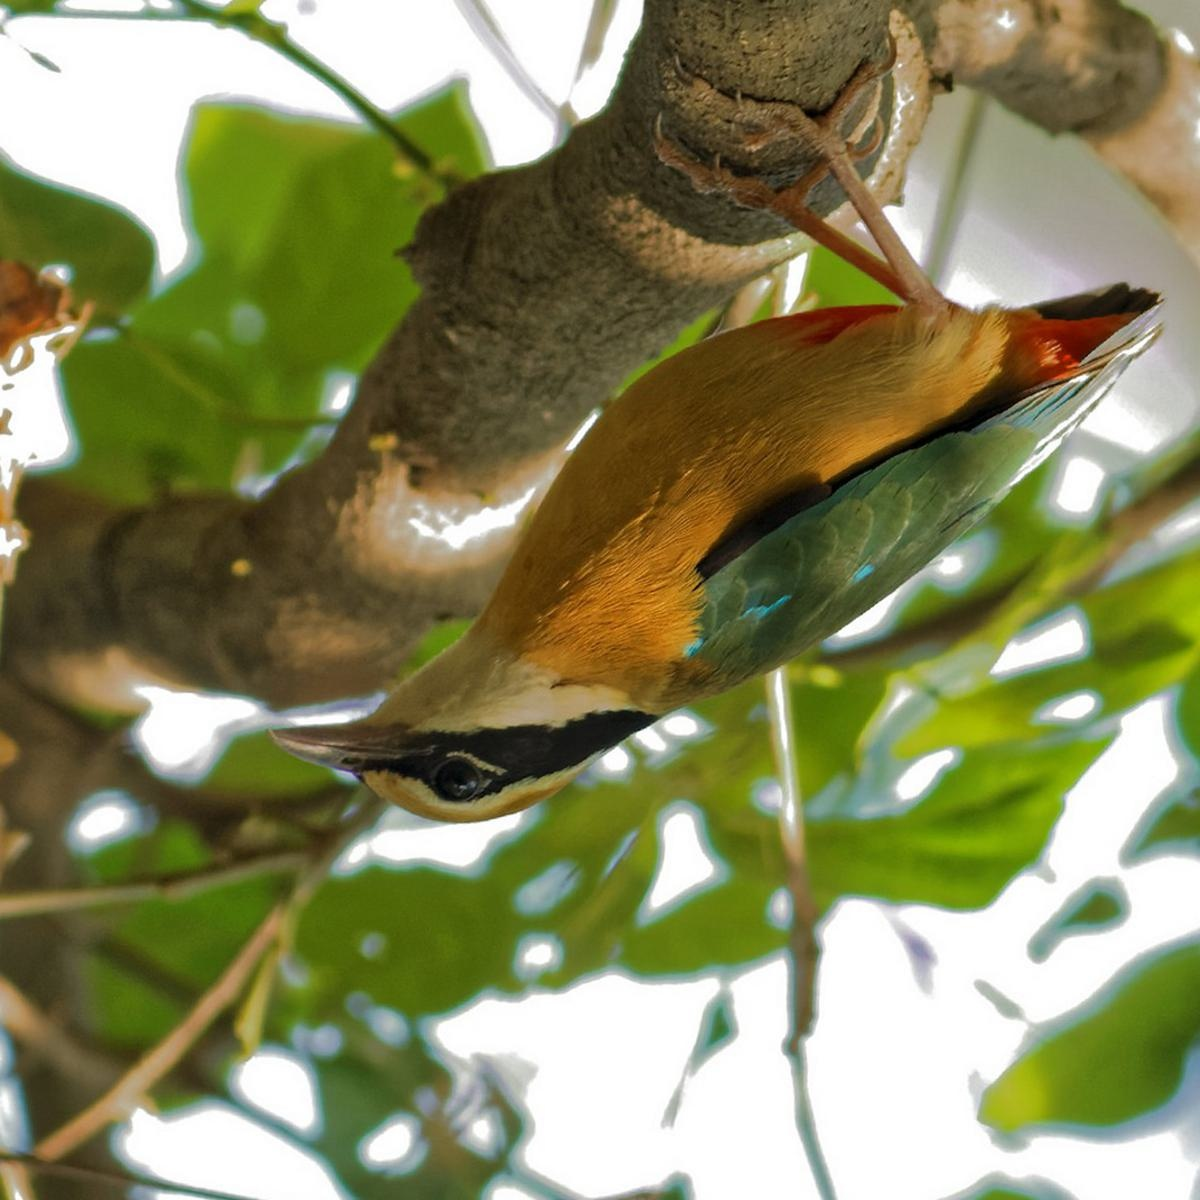pitta: (204, 105, 1200, 875)
